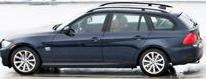backlight: (180, 31, 199, 47)
headlight: (0, 39, 15, 50)
side_glass: (62, 9, 178, 35)
